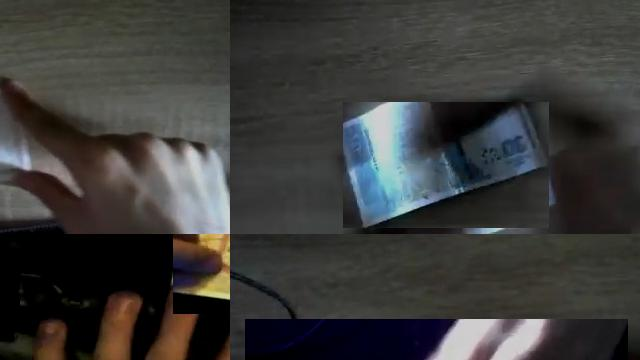20leva: (343, 102, 549, 228)
